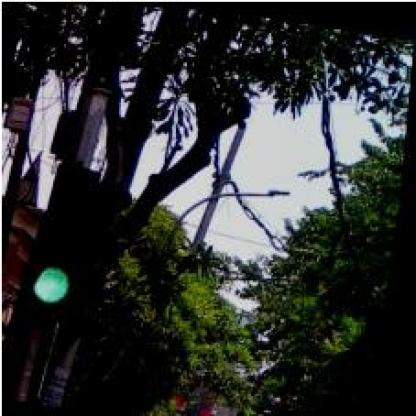green: (28, 160, 104, 316)
